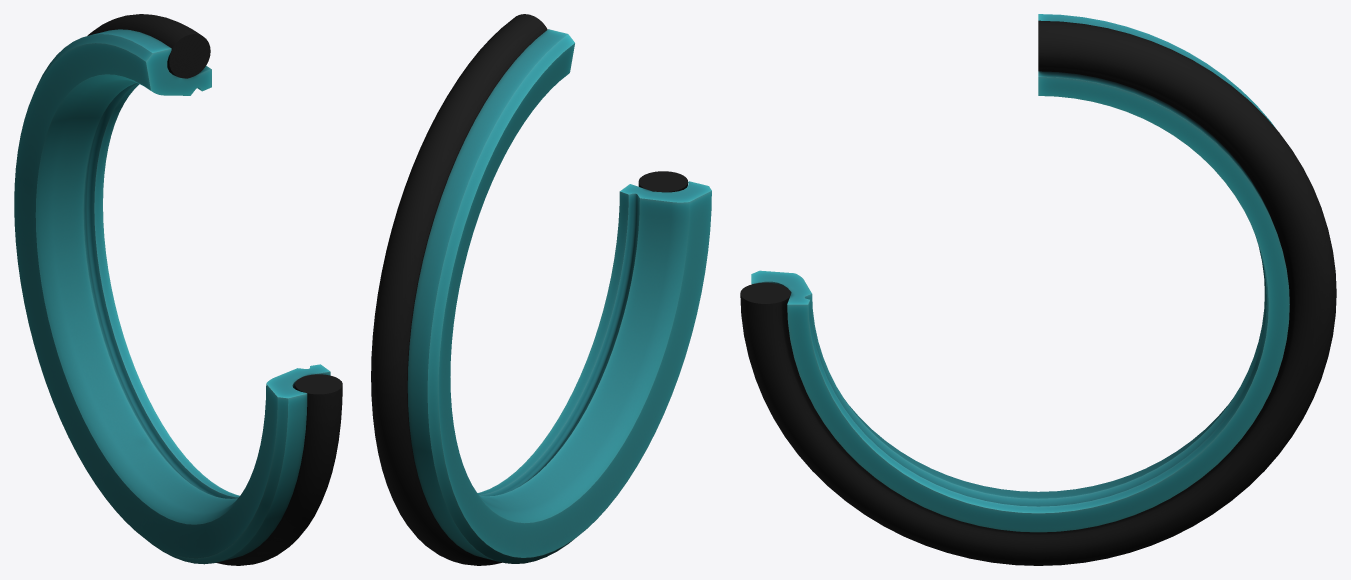
The picture shows the model from 3 angles, left to right: view 1: azimuth 30°, elevation 25°; view 2: azimuth 150°, elevation 25°; view 3: azimuth 270°, elevation 25°; orthographic projection. The views are drawn at different scales.
Parts seen in each view (by area): view 1: Turcon® VL Seal® II_3/4th 1, Turcon® VL Seal® II_3/4th 2; view 2: Turcon® VL Seal® II_3/4th 1, Turcon® VL Seal® II_3/4th 2; view 3: Turcon® VL Seal® II_3/4th 2, Turcon® VL Seal® II_3/4th 1.
Part boxes in pixels (bbox=[...]): Turcon® VL Seal® II_3/4th 1: bbox=[14, 29, 330, 564]; Turcon® VL Seal® II_3/4th 2: bbox=[87, 14, 342, 565]; Turcon® VL Seal® II_3/4th 1: bbox=[407, 29, 711, 563]; Turcon® VL Seal® II_3/4th 2: bbox=[371, 14, 688, 565]; Turcon® VL Seal® II_3/4th 2: bbox=[740, 20, 1336, 565]; Turcon® VL Seal® II_3/4th 1: bbox=[751, 14, 1289, 532].
Size of what is drawn, in the model's own units: 0.0534 by 0.3958 by 0.3958.
Materials: 2 (2 with a texture image).
